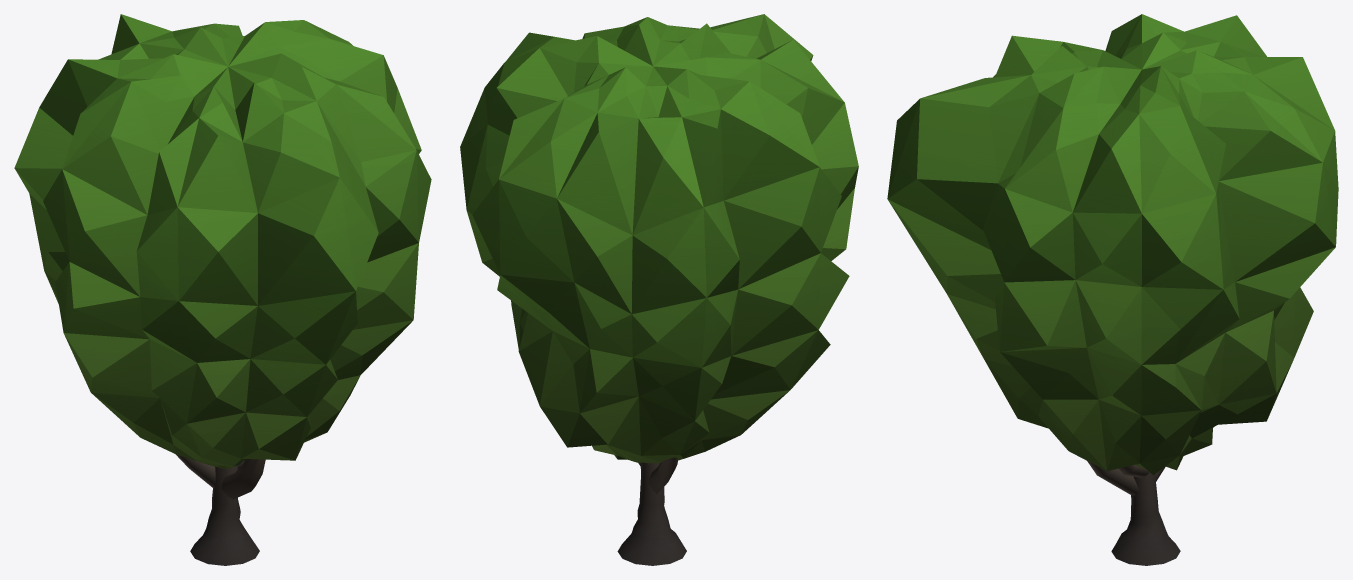
Rendered from prop_tree_F.fbx.
The picture shows the model from 3 angles, left to right: view 1: azimuth 30°, elevation 25°; view 2: azimuth 150°, elevation 25°; view 3: azimuth 270°, elevation 25°; orthographic projection.
Parts seen in each view (by area): view 1: prop_tree_f; view 2: prop_tree_f; view 3: prop_tree_f.
Boxes of the visible parts, x1,y1,x2,y2 form: prop_tree_f: (14,14,431,565); prop_tree_f: (460,14,858,565); prop_tree_f: (887,14,1338,565).
Bounding box in the file's own units: 467 × 652 × 524.
1 material, 1 textured.
